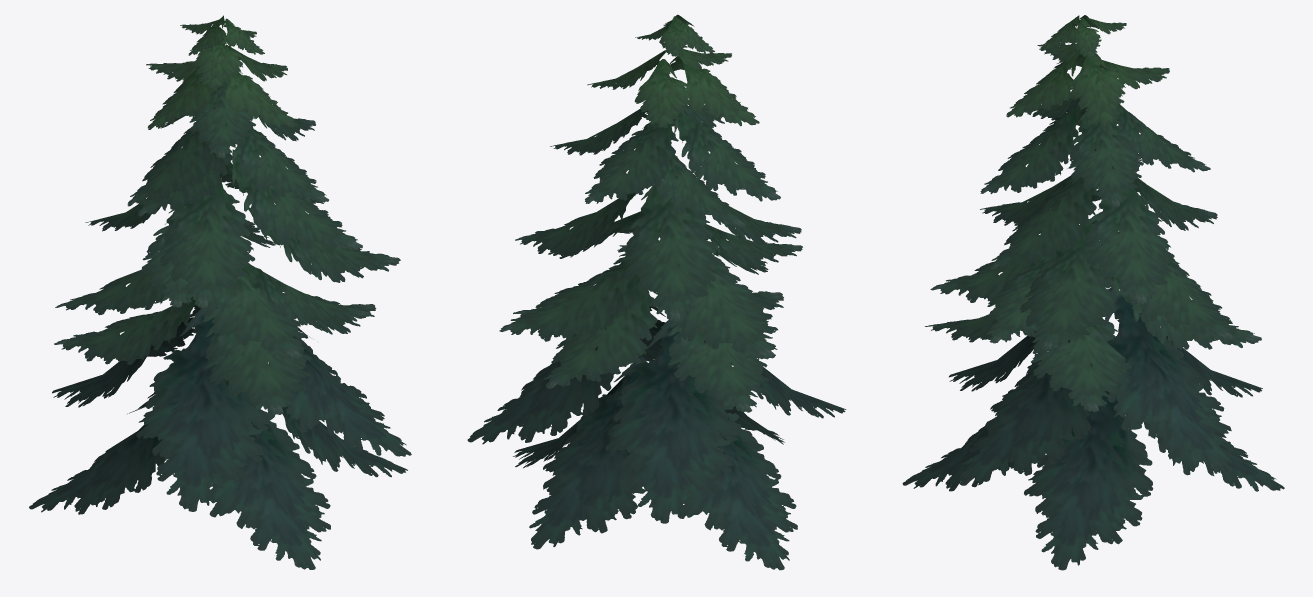
Rendered from Tree_A_2.fbx.
3 views of the same model, side by side, from view 1: azimuth 30°, elevation 25°; view 2: azimuth 150°, elevation 25°; view 3: azimuth 270°, elevation 25° (orthographic). The views are drawn at different scales.
Visible parts, largest first — view 1: Tree_A_2; view 2: Tree_A_2; view 3: Tree_A_2.
Boxes of the visible parts, x1,y1,x2,y2 form: Tree_A_2: [29, 15, 411, 569]; Tree_A_2: [467, 14, 846, 570]; Tree_A_2: [902, 15, 1284, 570].
Bounding box in the file's own units: 1.07 × 1.47 × 1.13.
Materials: 1 (1 with a texture image).
